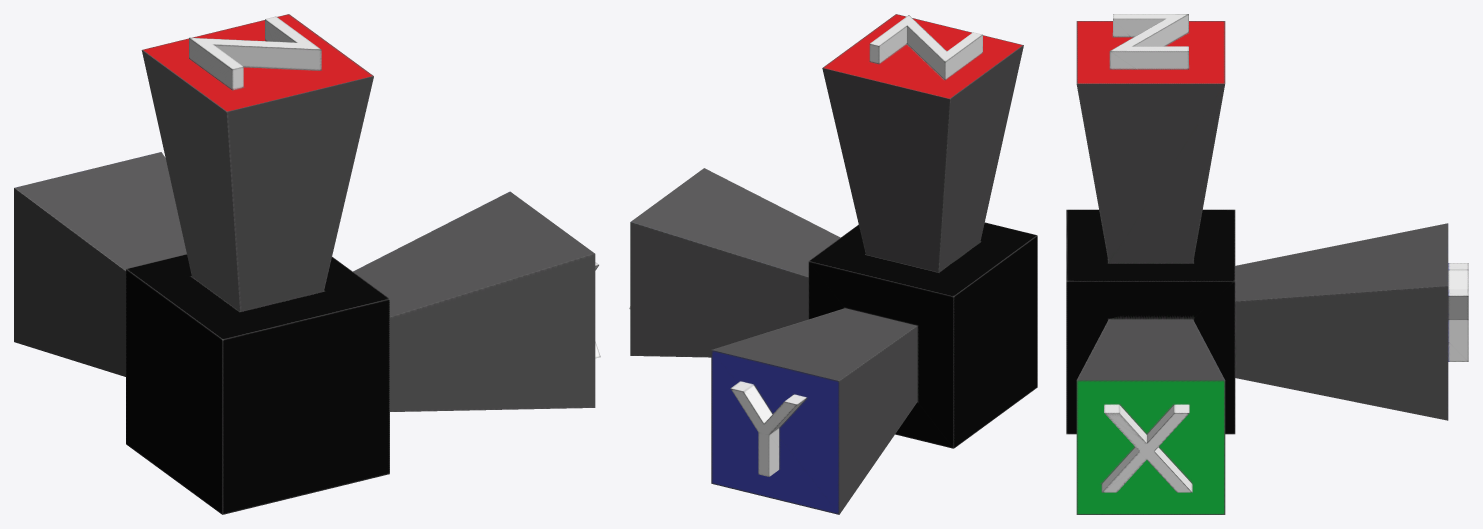
Rendered from example_controller.fbx.
The picture shows the model from 3 angles, left to right: view 1: azimuth 30°, elevation 25°; view 2: azimuth 150°, elevation 25°; view 3: azimuth 270°, elevation 25°; orthographic projection. The views are drawn at different scales.
Parts seen in each view (by area): view 1: node_id3; view 2: node_id3; view 3: node_id3.
Boxes of the visible parts, bbox=[...] form: node_id3: bbox=[14, 14, 600, 514]; node_id3: bbox=[629, 14, 1037, 514]; node_id3: bbox=[1066, 14, 1468, 514].
Bounding box in the file's own units: 0.512 × 0.512 × 0.512.
Materials: 1 (1 with a texture image).
